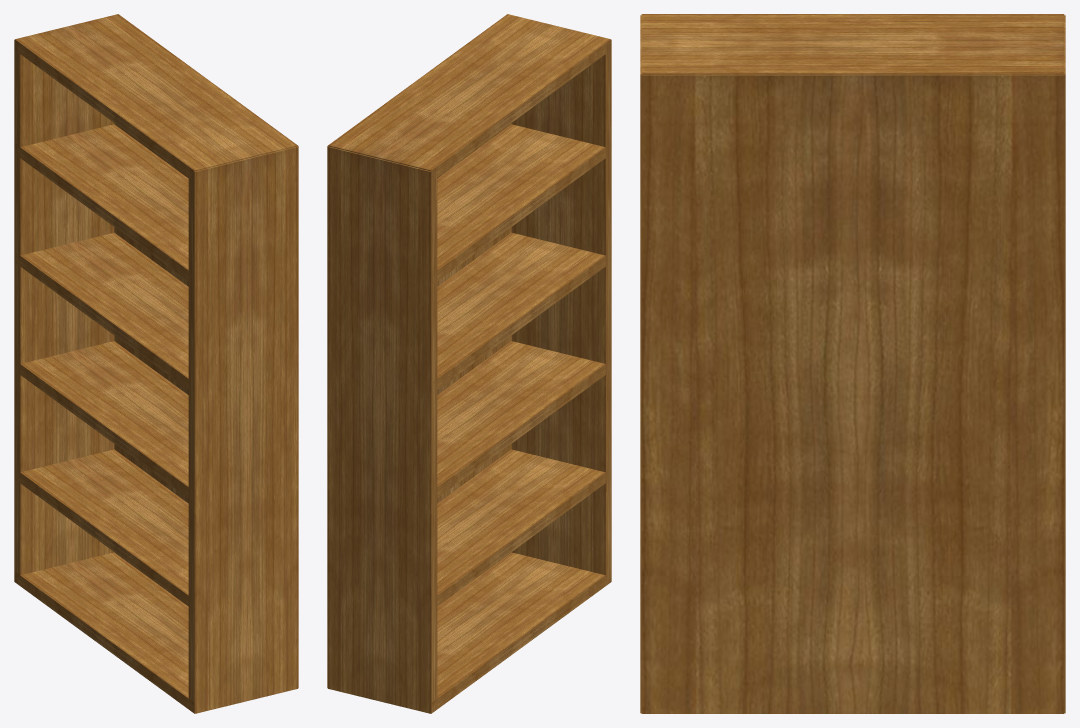
File: bookshelf.obj
3 renders of one model, left to right at view 1: azimuth 30°, elevation 25°; view 2: azimuth 150°, elevation 25°; view 3: azimuth 270°, elevation 25°, orthographic. The views are drawn at different scales.
Visible parts, largest first — view 1: Box004, Box002, Box009, Box001, Box008, Box007, Box005, Box006, Box003; view 2: Box002, Box004, Box009, Box001, Box008, Box007, Box005, Box006, Box003; view 3: Box003, Box009, Box002, Box004.
Part boxes in pixels (x1,y1,x2,y2): Box004: (188,146,298,713); Box002: (14,40,114,584); Box009: (14,14,297,180); Box001: (14,552,194,713); Box008: (14,124,194,280); Box007: (14,232,194,391); Box005: (14,449,193,609); Box006: (20,341,193,501); Box003: (114,123,298,687); Box002: (327,146,437,713); Box004: (511,40,611,585); Box009: (328,14,611,179); Box001: (431,552,611,708); Box008: (433,124,605,282); Box007: (433,232,605,389); Box005: (437,449,610,606); Box006: (437,341,605,497); Box003: (327,123,511,687); Box003: (641,74,1064,713); Box009: (641,14,1064,74); Box002: (1064,15,1065,713); Box004: (640,15,641,713).
Size of the model in its own units: 10.1 by 50.1 by 30.2.
1 material, 1 textured.
